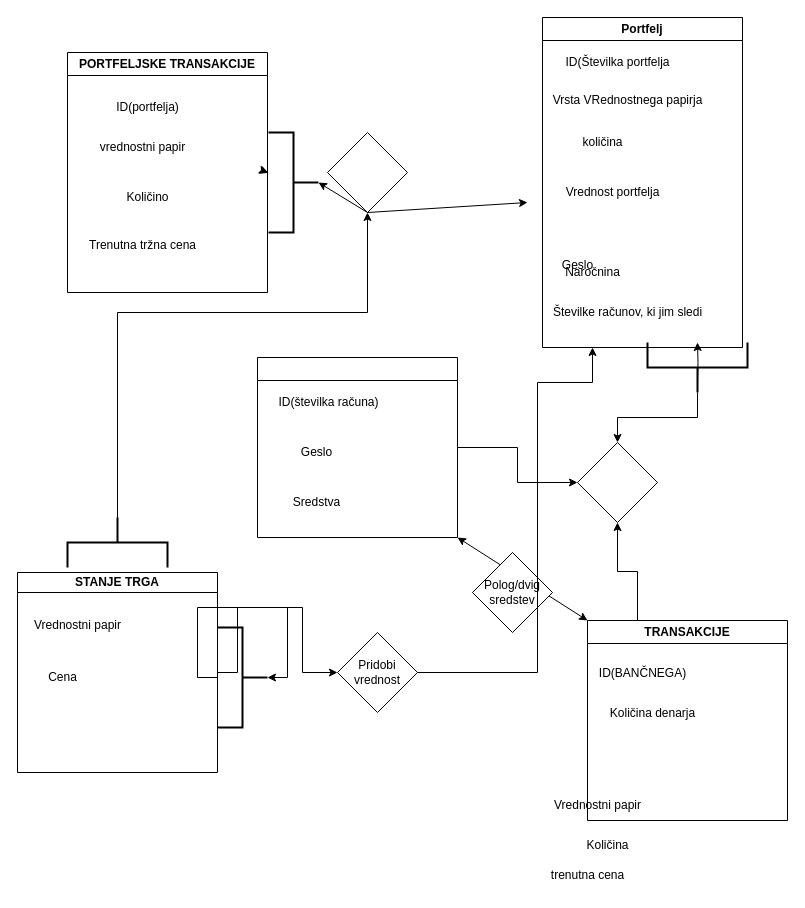
This 805x908 diagram has some shape labels left out. Here are the shapes that lost their labels. From the top down, the box of each, then its label:
(326, 132, 408, 212): Nakup/prodaja
(256, 356, 458, 538): BANČNI RAČUN
(576, 442, 658, 522): Bančno portfeljska transakcija
